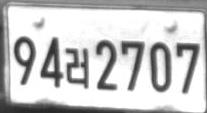0: (149, 41, 172, 93)
2: (95, 39, 118, 90)
4: (40, 37, 64, 88)
7: (176, 42, 200, 93), (121, 40, 145, 90)
9: (14, 36, 36, 85)
러: (65, 47, 89, 88)
